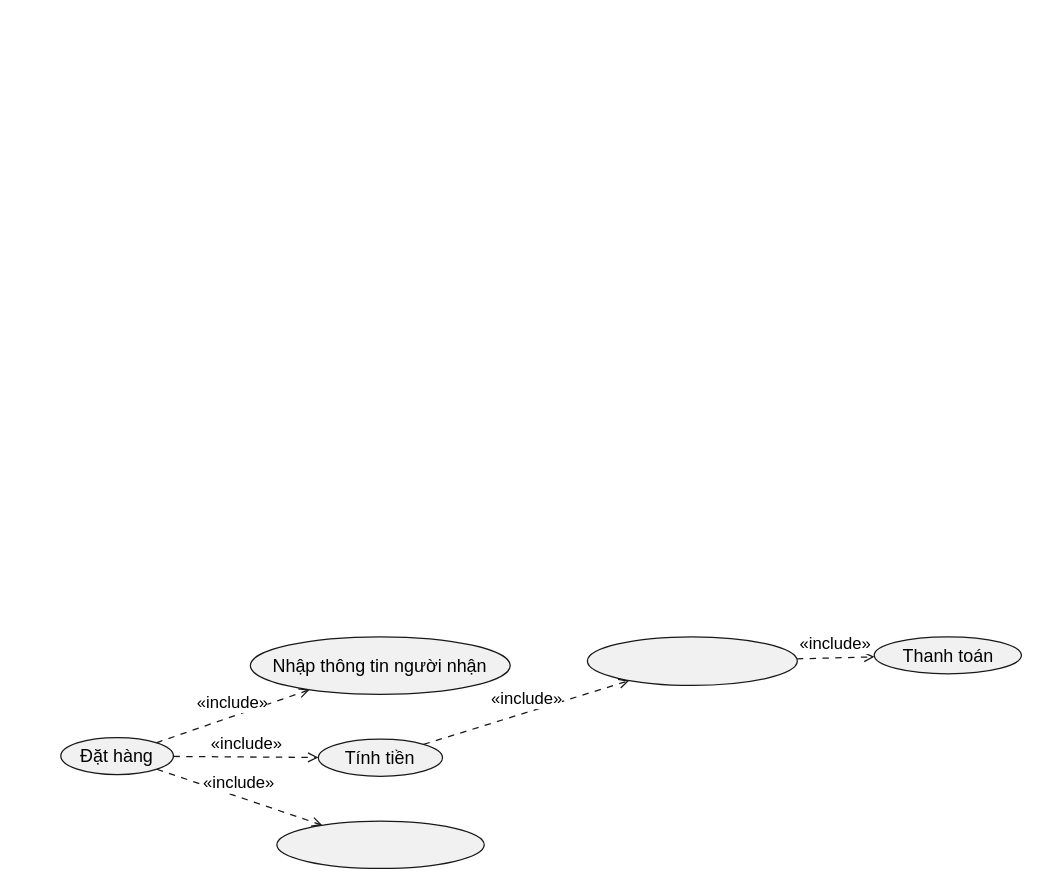
Image size: 1043x891. Some labels were removed from this diagram. The shapes that lost their labels are listed below. From the top down, each one's centre as x and y in pixels, then its label:
At [691,660]: "Chọn loại giao hàng".
At [380,844]: "Kiểm tra đăng nhập".
